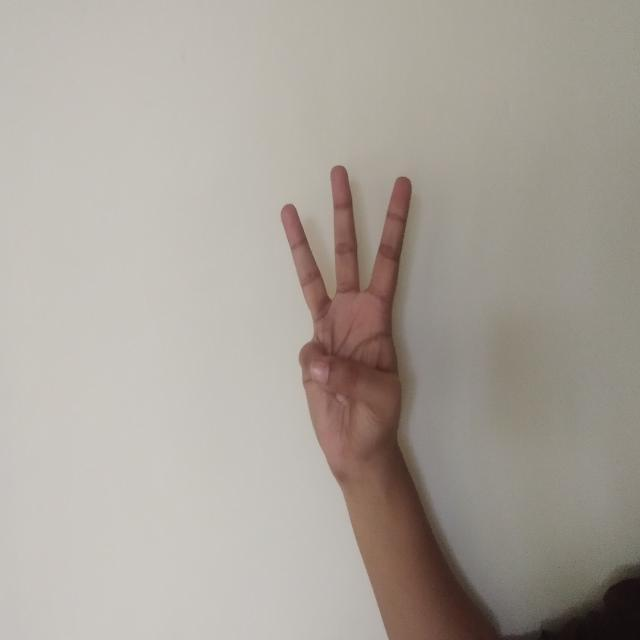Please: (245, 116, 444, 498)
